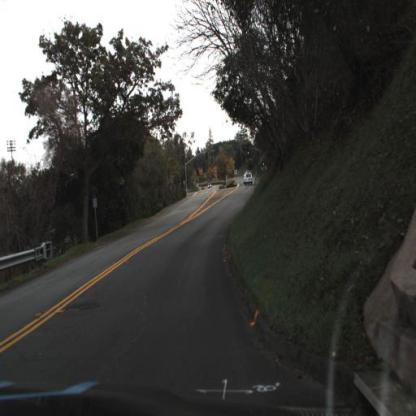car: (241, 170, 257, 189), (206, 181, 215, 193), (206, 181, 214, 193)
